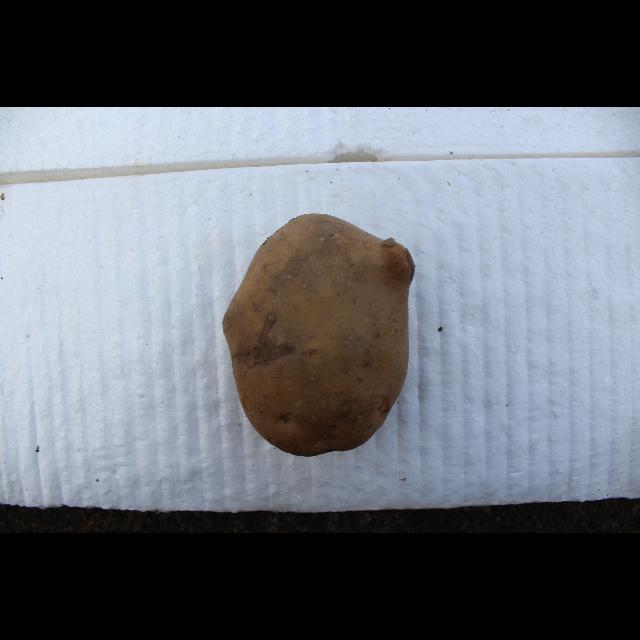Diseased-fungal potato: (215, 208, 419, 460)
